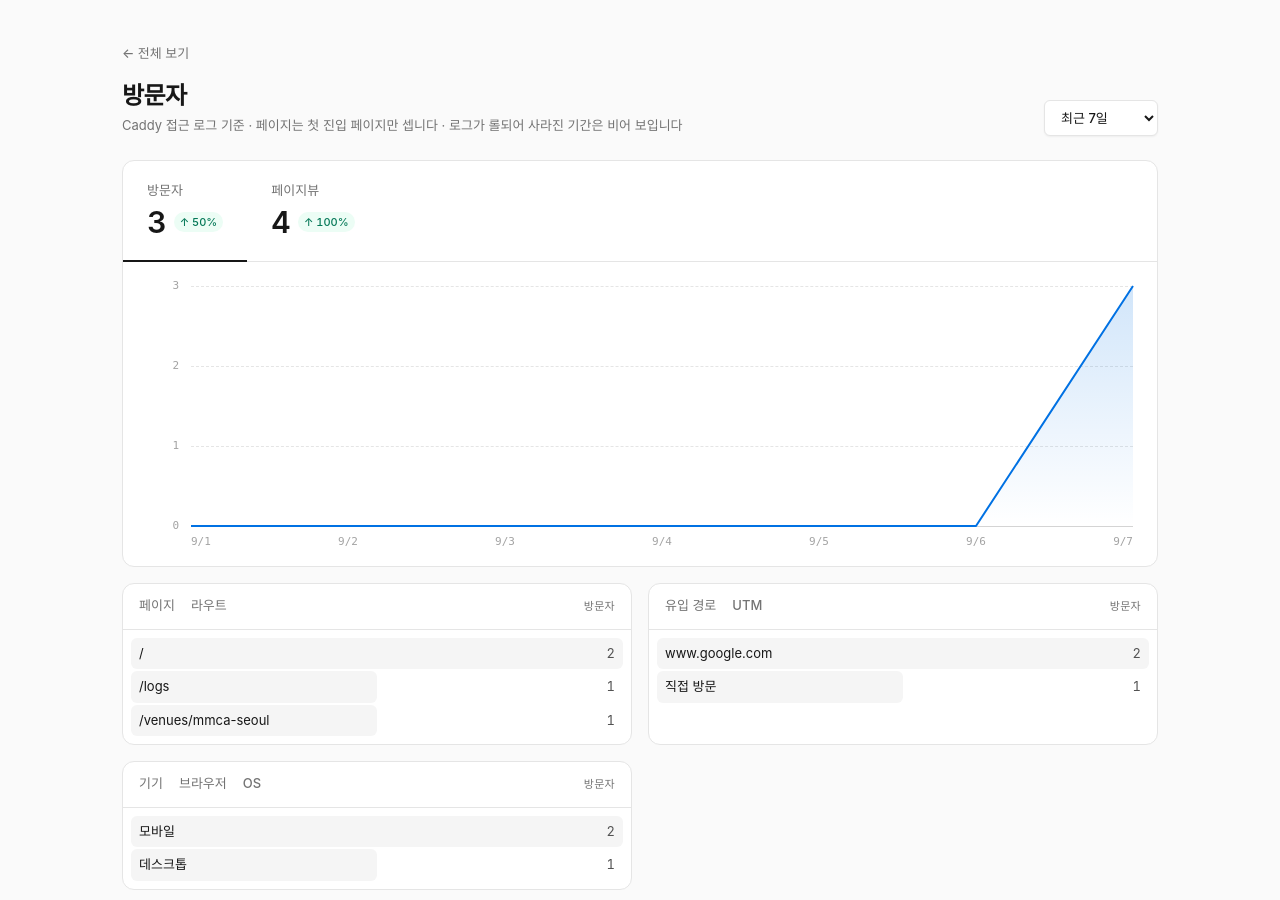
Test case: VisitorsPage › breaks pages down by visitors and switches tabs
The width and height of the screenshot is (1280, 900).
Expected: the text "/" is shown, [139, 644, 144, 663]
Expected: the button "/ 2" is shown, [131, 638, 623, 669]
Step 1. Click the tab "라우트" → (209, 607), box [191, 584, 227, 630]
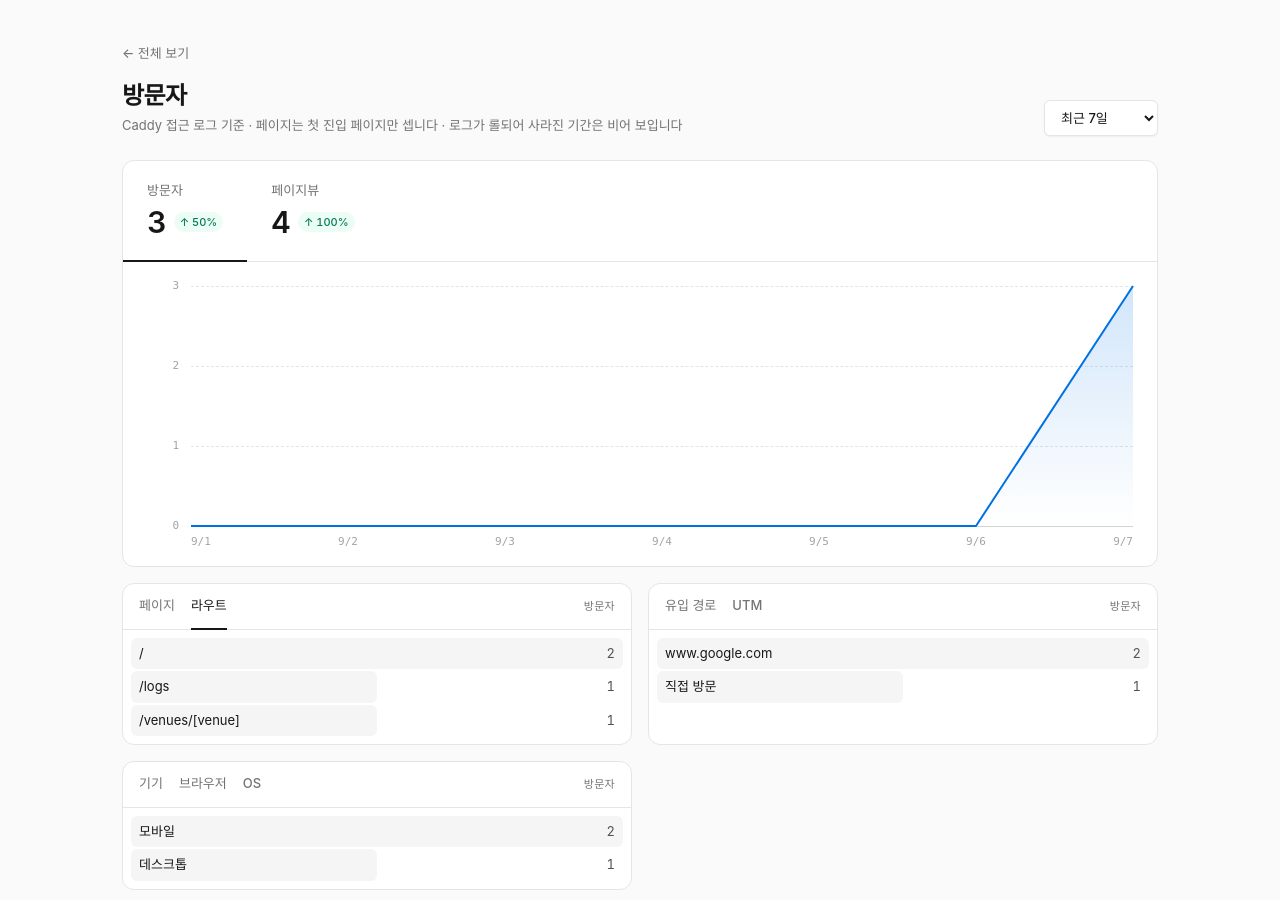
Expected: the text "/venues/[venue]" is shown, [139, 710, 240, 730]
